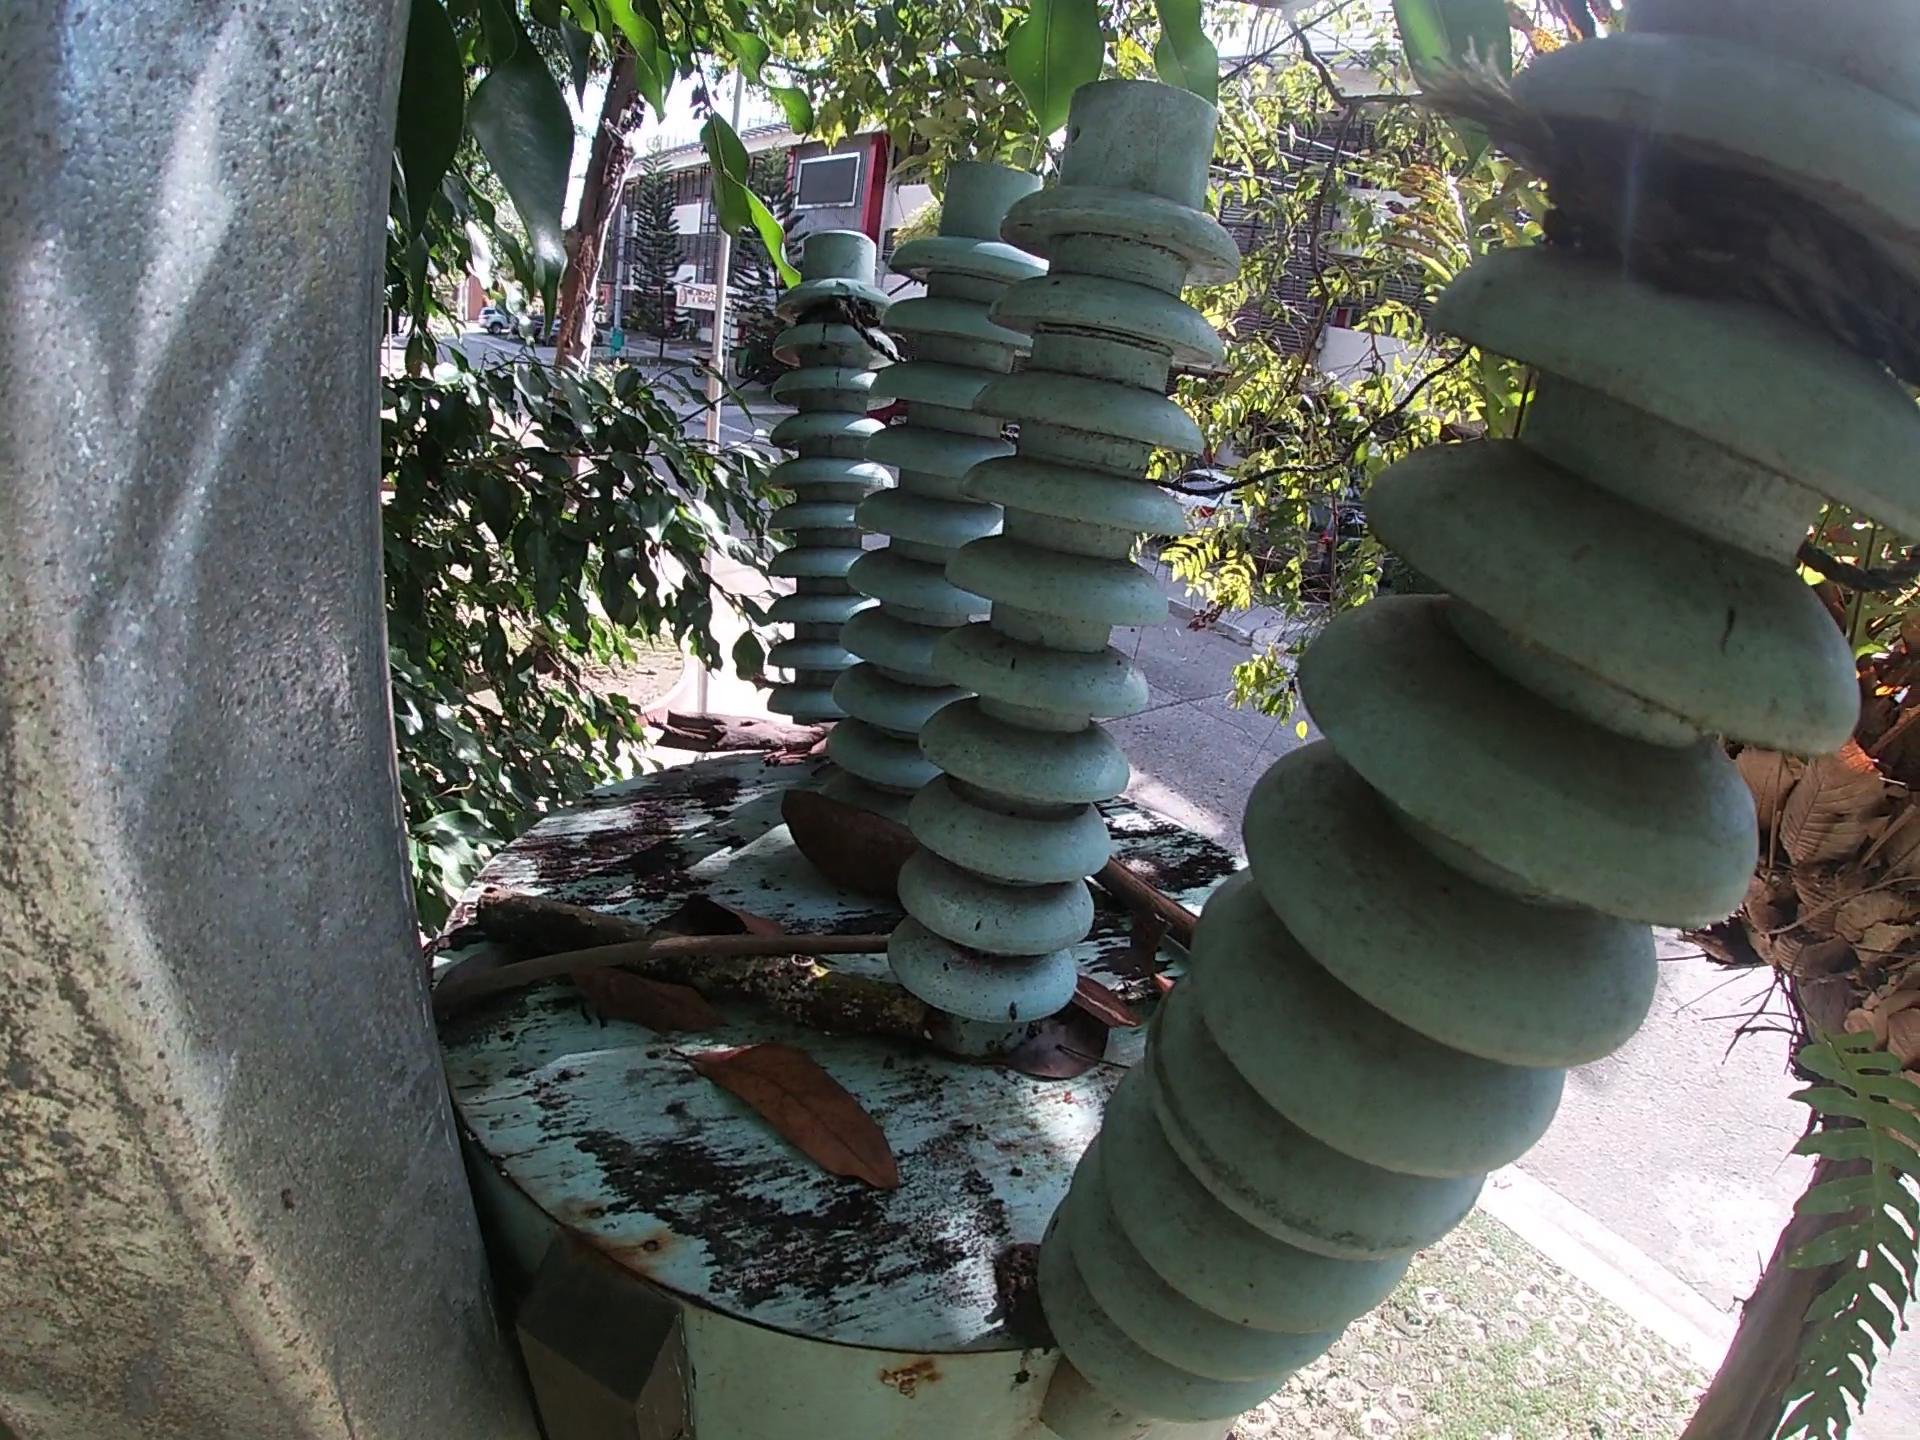leaf: (667, 1038, 906, 1198), (570, 961, 733, 1035), (983, 1007, 1117, 1085), (643, 891, 794, 941)
mahogany fruit: (779, 787, 912, 903), (1069, 976, 1140, 1035), (1137, 914, 1181, 1000)
tree branch: (475, 885, 931, 1047), (422, 929, 897, 1021), (652, 708, 835, 768), (1096, 853, 1197, 947)
